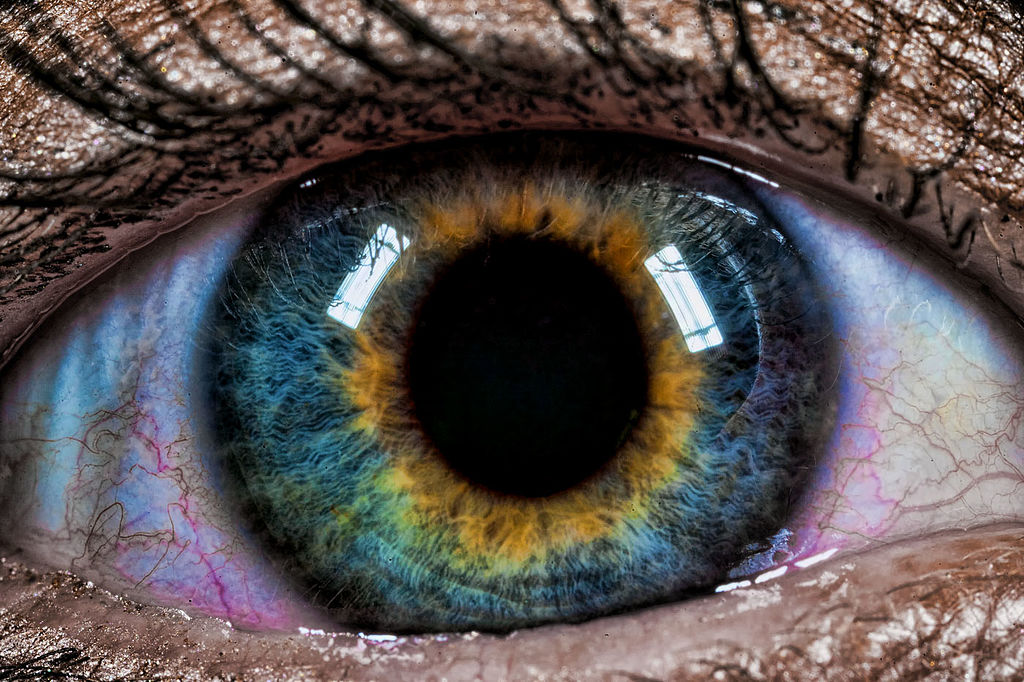iris: (194, 101, 844, 649)
pupil: (392, 229, 657, 503)
